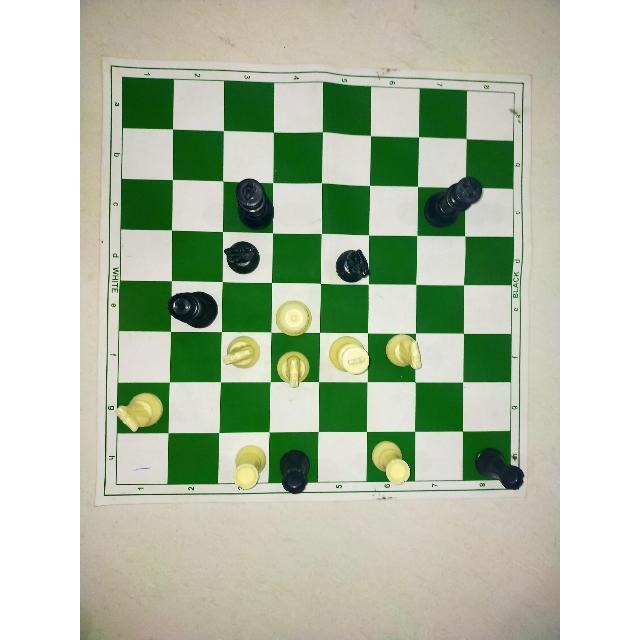black-king: (423, 173, 484, 228), (235, 178, 276, 228)
black-knight: (334, 248, 374, 283), (224, 240, 262, 275)
black-queen: (166, 289, 218, 328)
black-rook: (475, 444, 524, 494), (275, 449, 313, 496)
white-king: (327, 330, 372, 375)
white-knight: (113, 389, 163, 433), (384, 332, 423, 374), (222, 333, 262, 370), (276, 349, 310, 389)
white-queen: (273, 300, 314, 336)
white-rook: (370, 440, 411, 488), (231, 444, 267, 492)
